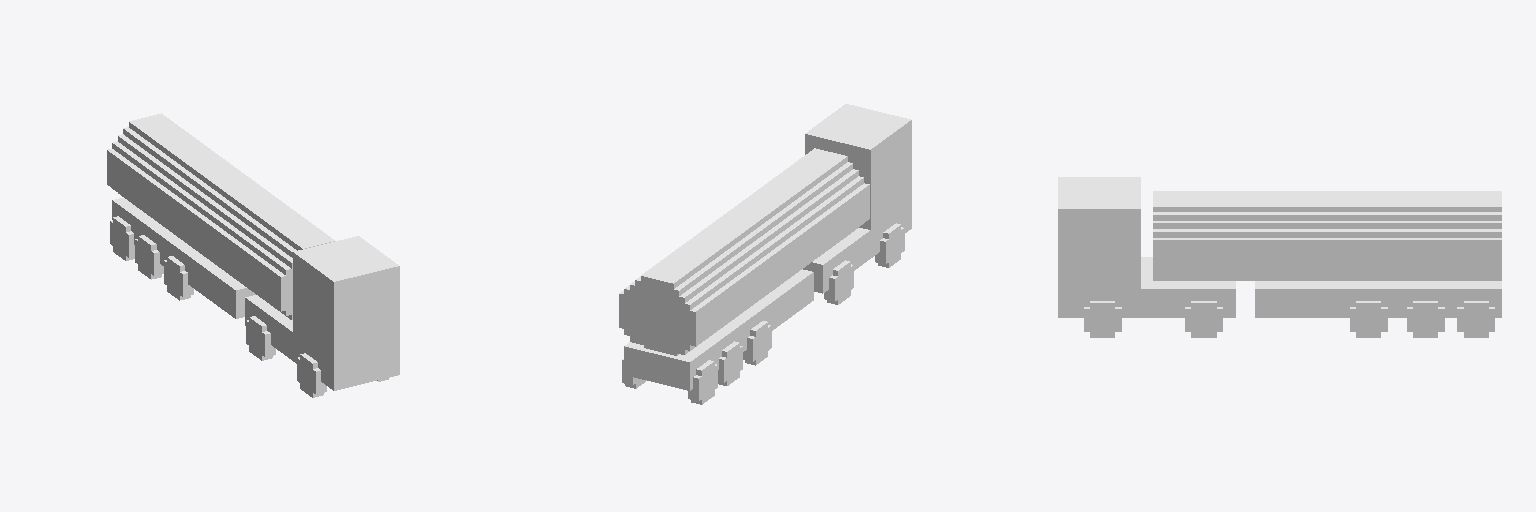
File: truck_tanker_light.obj
3 views of the same model, side by side, from view 1: azimuth 30°, elevation 25°; view 2: azimuth 150°, elevation 25°; view 3: azimuth 270°, elevation 25° (orthographic).
Visible parts, largest first — view 1: truck_tanker_light; view 2: truck_tanker_light; view 3: truck_tanker_light.
Boxes of the visible parts, box(x1,y1,x2,y2) form: truck_tanker_light: box(107, 113, 399, 397); truck_tanker_light: box(619, 104, 911, 404); truck_tanker_light: box(1058, 177, 1501, 337).
Bounding box in the file's own units: 14 × 22 × 70.